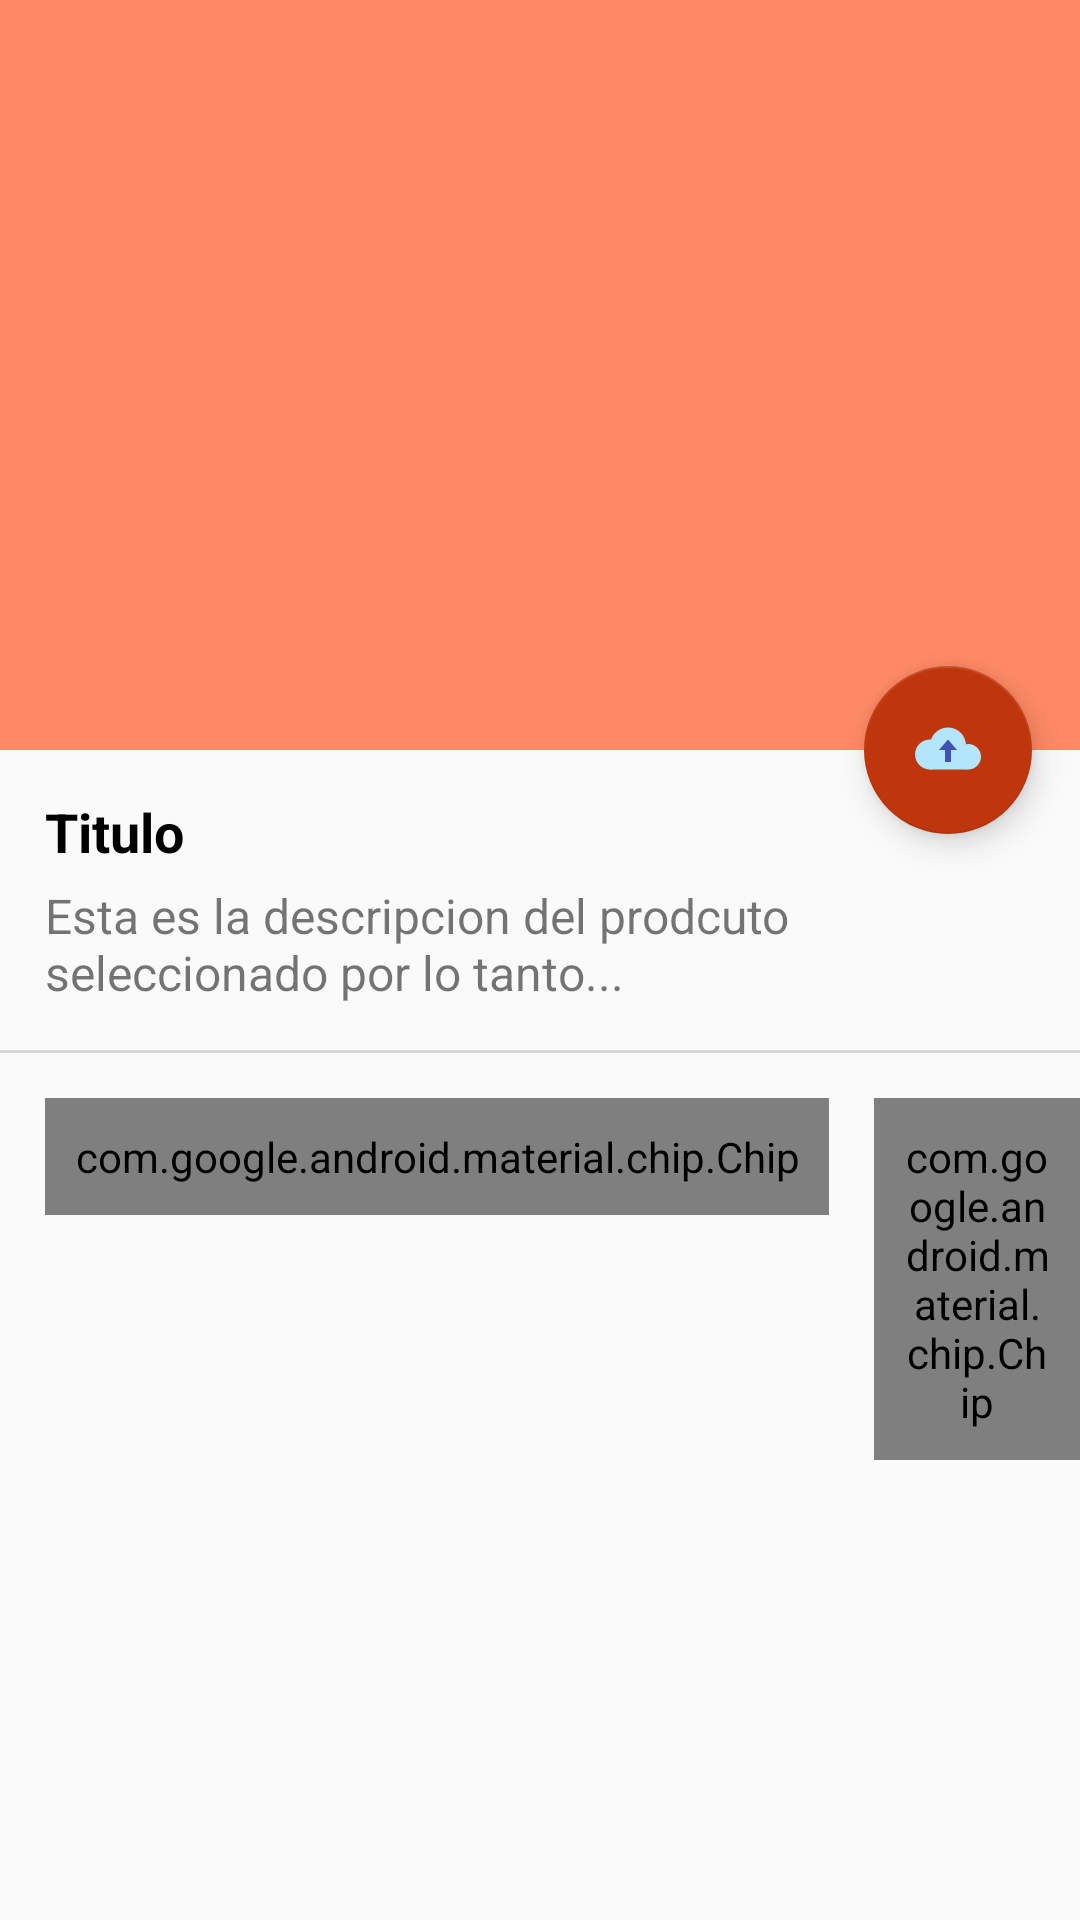

Point at icon controls on the screen. Image size 1080px x 1920px, points as [x,y].
subir la nube: [948,750]
